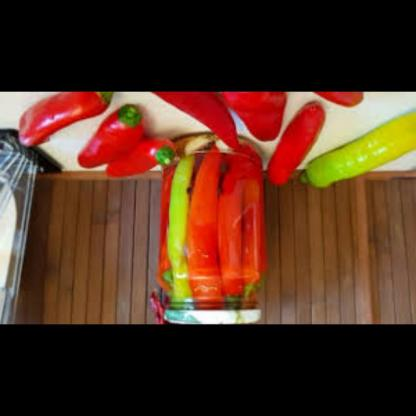hot pepper: (162, 144, 264, 316), (297, 110, 416, 199), (7, 93, 120, 155), (148, 93, 246, 159), (265, 102, 328, 194), (72, 102, 144, 172), (97, 132, 179, 184), (222, 93, 288, 151), (305, 92, 372, 116)
